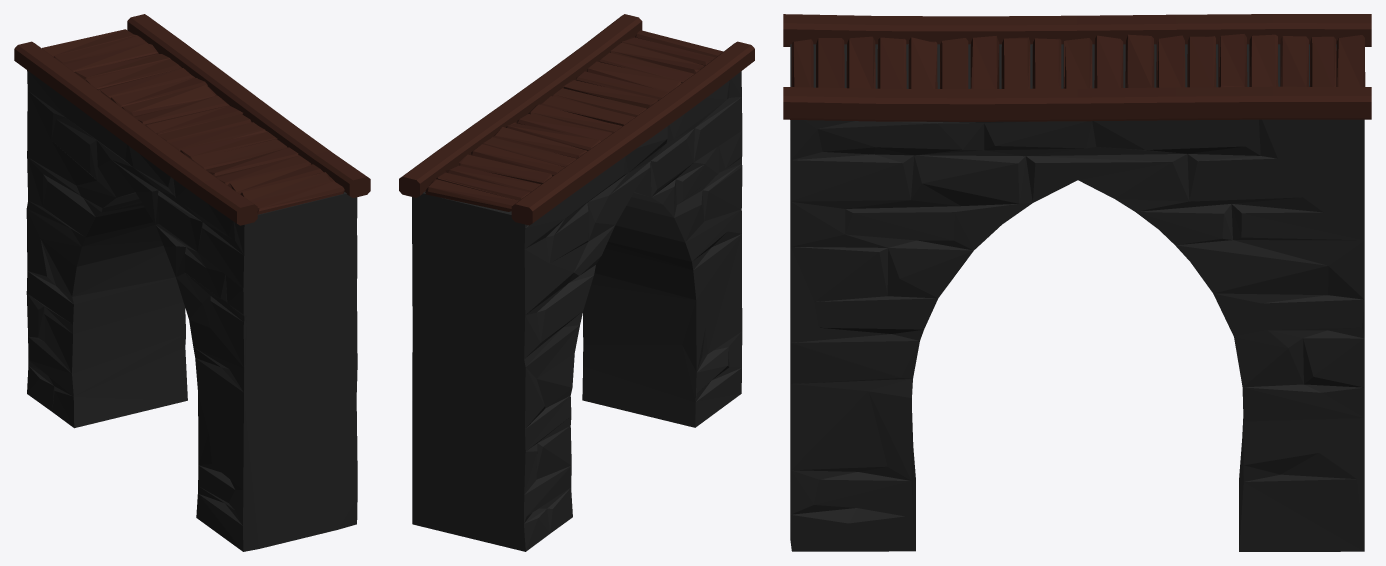
The model's file is civilian_bridge_4_c.FBX.
The picture shows the model from 3 angles, left to right: view 1: azimuth 30°, elevation 25°; view 2: azimuth 150°, elevation 25°; view 3: azimuth 270°, elevation 25°; orthographic projection. The views are drawn at different scales.
Parts seen in each view (by area): view 1: civilian_bridge_4_c; view 2: civilian_bridge_4_c; view 3: civilian_bridge_4_c.
Part boxes in pixels (box(x1,y1,x2,y2)): civilian_bridge_4_c: box(14, 14, 370, 551); civilian_bridge_4_c: box(399, 14, 754, 551); civilian_bridge_4_c: box(783, 14, 1371, 551).
Size of the model in its own units: 235 by 584 by 676.
